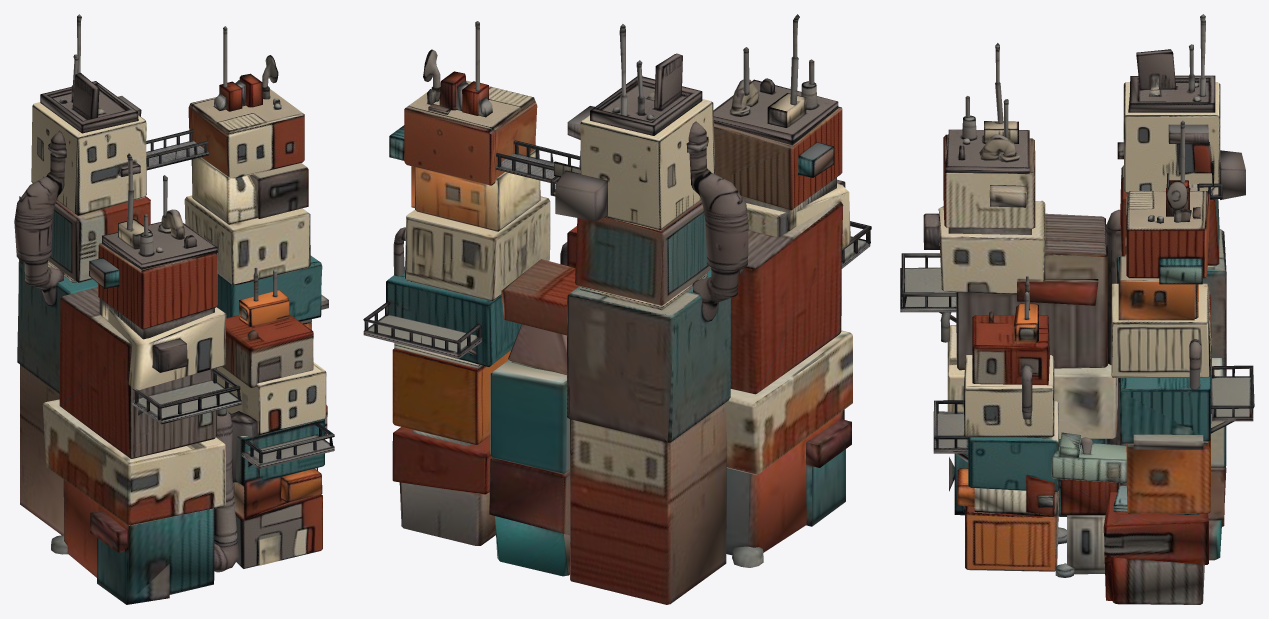
File: city.glb
3 renders of one model, left to right at view 1: azimuth 30°, elevation 25°; view 2: azimuth 150°, elevation 25°; view 3: azimuth 270°, elevation 25°, orthographic. The views are drawn at different scales.
Parts seen in each view (by area): view 1: geometry_0; view 2: geometry_0; view 3: geometry_0.
Part boxes in pixels (bbox=[...]): geometry_0: bbox=[14, 14, 334, 604]; geometry_0: bbox=[363, 14, 871, 604]; geometry_0: bbox=[900, 14, 1254, 604].
Size of the model in its own units: 0.6196 by 0.9536 by 0.6177.
1 material, 1 textured.
